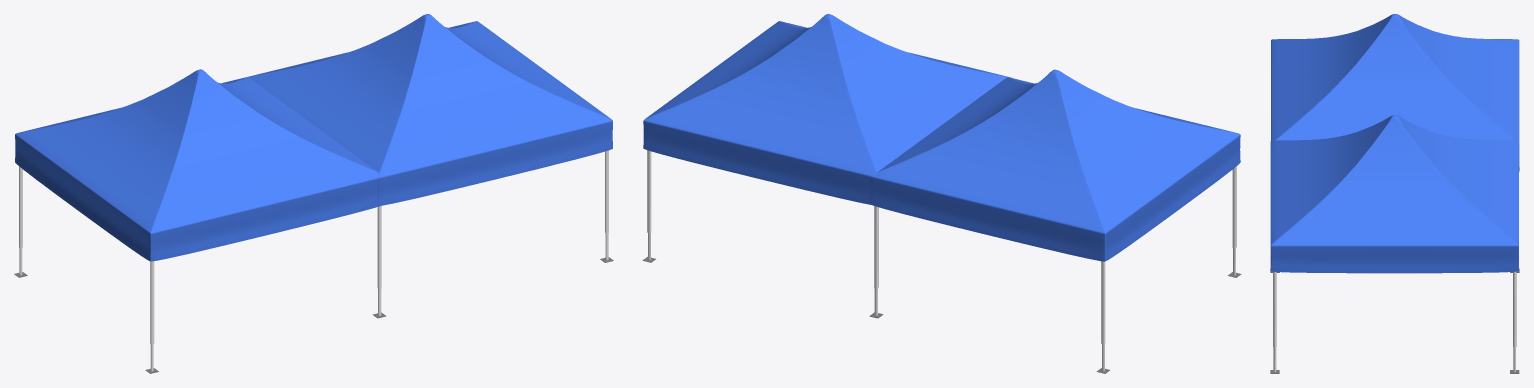
Rendered from Commercial_Tent_4x4_Meters.glb.
3 views of the same model, side by side, from view 1: azimuth 30°, elevation 25°; view 2: azimuth 150°, elevation 25°; view 3: azimuth 270°, elevation 25° (orthographic). The views are drawn at different scales.
Parts seen in each view (by area): view 1: tent; view 2: tent; view 3: tent.
Part boxes in pixels (left/top/right/bottom): tent: left=14, top=14, right=613, bottom=373; tent: left=642, top=14, right=1241, bottom=373; tent: left=1270, top=14, right=1519, bottom=373.
Size of the model in its own units: 8.15 by 3.79 by 4.16.
